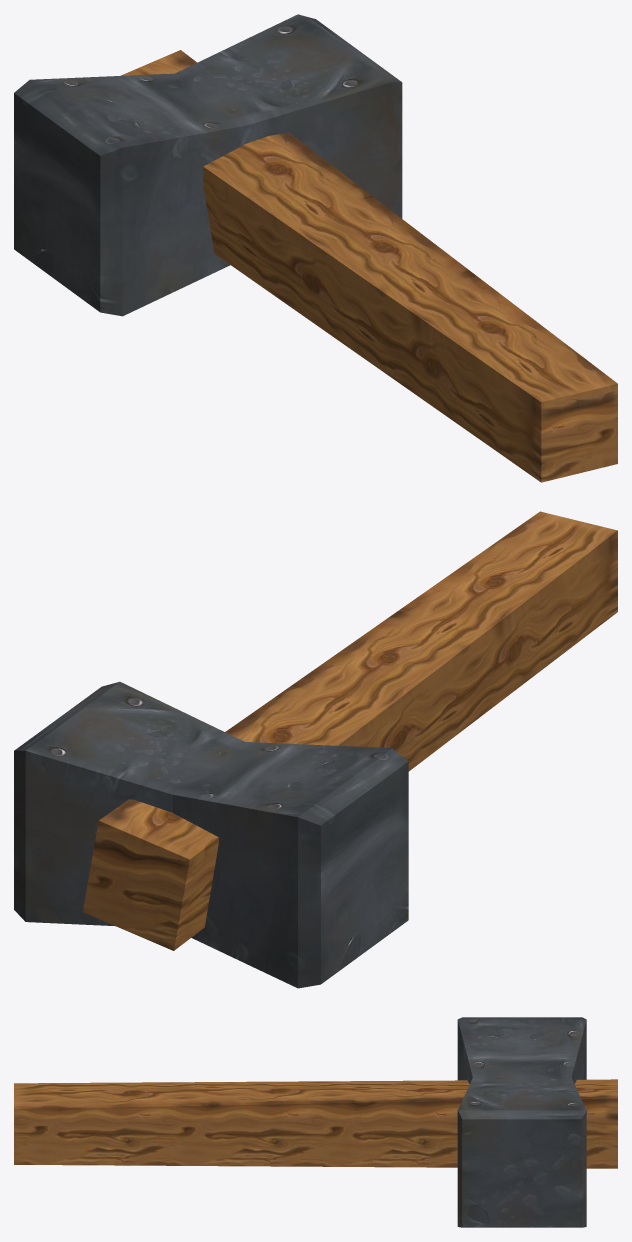
File: martillo.obj
The picture shows the model from 3 angles, top to bottom: view 1: azimuth 30°, elevation 25°; view 2: azimuth 150°, elevation 25°; view 3: azimuth 270°, elevation 25°; orthographic projection. The views are drawn at different scales.
Parts seen in each view (by area): view 1: martillo:Box003; view 2: martillo:Box003; view 3: martillo:Box003.
Part boxes in pixels (left/top/right/bottom): martillo:Box003: left=14, top=14, right=617, bottom=482; martillo:Box003: left=14, top=511, right=617, bottom=988; martillo:Box003: left=14, top=1017, right=617, bottom=1227.
Bounding box in the file's own units: 0.257 × 0.137 × 0.6422.
1 material, 1 textured.
